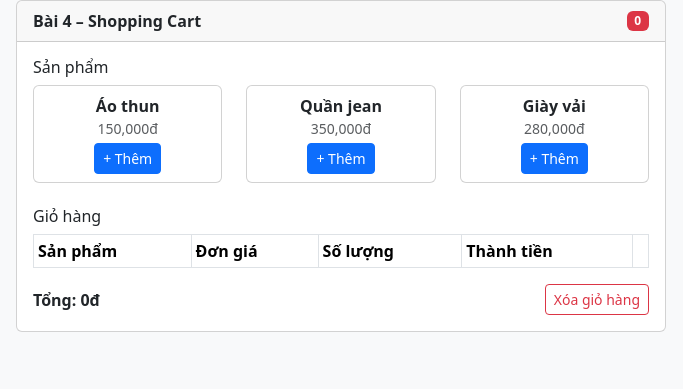
Bài 4 – Shopping Cart › ✅ Task 2+6 – ADD_ITEM › thêm sản phẩm 1 vào giỏ
The image size is (683, 389).
Click the button with test id "btn-add-1" at (128, 159), box [94,143,161,174]
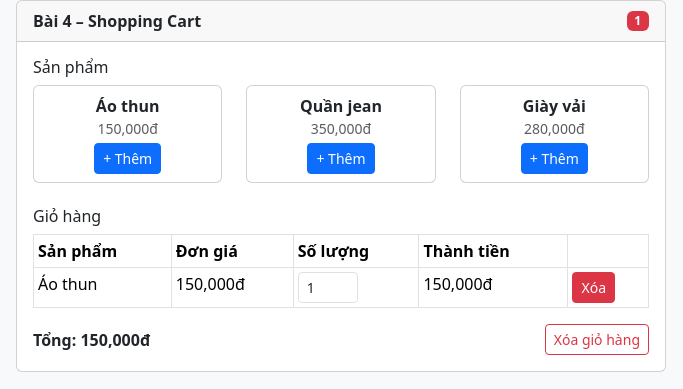
Result: the row with test id "cart-row-1" is shown at [34,268,648,308]
